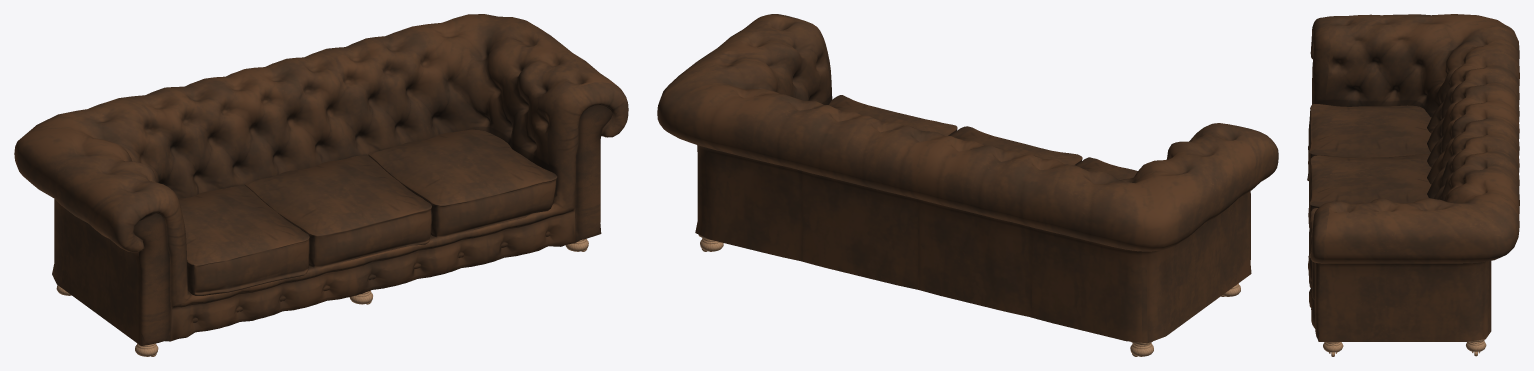
The model's file is sofa (2).glb.
3 renders of one model, left to right at view 1: azimuth 30°, elevation 25°; view 2: azimuth 150°, elevation 25°; view 3: azimuth 270°, elevation 25°, orthographic. The views are drawn at different scales.
Parts seen in each view (by area): view 1: Sofa_Sofa_Leather_0, Sofa_Sofa_Stand_0; view 2: Sofa_Sofa_Leather_0, Sofa_Sofa_Stand_0; view 3: Sofa_Sofa_Leather_0, Sofa_Sofa_Stand_0.
Boxes of the visible parts, left/top/right/bottom form: Sofa_Sofa_Leather_0: left=14, top=14, right=628, bottom=345; Sofa_Sofa_Stand_0: left=56, top=239, right=588, bottom=356; Sofa_Sofa_Leather_0: left=657, top=14, right=1278, bottom=343; Sofa_Sofa_Stand_0: left=698, top=234, right=1240, bottom=356; Sofa_Sofa_Leather_0: left=1307, top=14, right=1519, bottom=341; Sofa_Sofa_Stand_0: left=1323, top=339, right=1486, bottom=356.
Size of the model in its own units: 2.41 by 0.7826 by 0.9946.
Materials: 2 (2 with a texture image).
